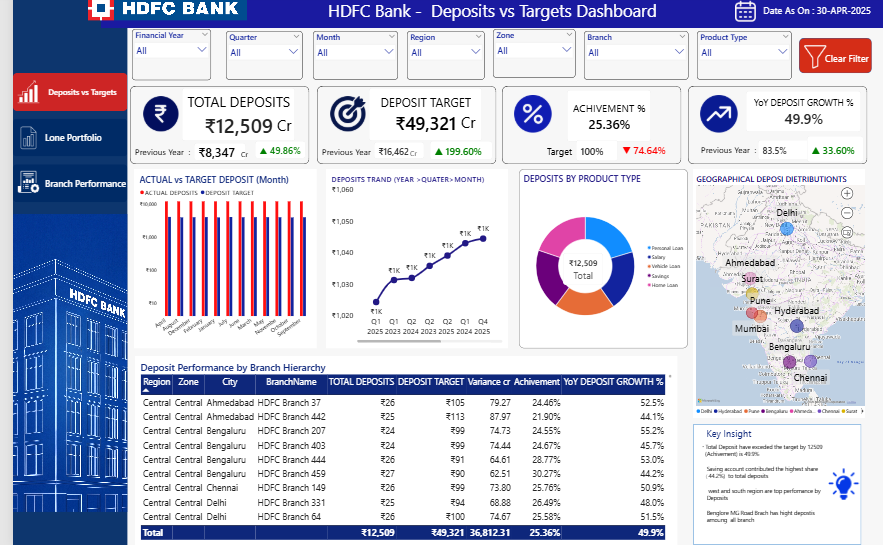

The dashboard page shown, as its layout file describes it:
{"tool":"powerbi","page":{"name":"Deposits vs Targets ","canvas":[2500,1580],"ordinal":0},"visuals":[{"type":"shape","box":[250.2,0,2249.9,94.8],"z":0,"group":"g1"},{"type":"slicer","fields":{"Values":["DimDate.Finanical Year"]},"box":[342.2,97.8,227,146.6],"z":0,"group":"g3"},{"type":"pageNavigator","box":[0,224.4,328.6,372.9],"z":0,"group":"g2"},{"type":"shape","box":[1940,260,515.1,224.4],"z":0,"group":"g9"},{"type":"shape","box":[872.1,260.5,515.1,224.4],"z":0,"group":"g5"},{"type":"shape","box":[1404.7,260.5,515.1,224.4],"z":0,"group":"g6"},{"type":"shape","box":[337.2,261.4,515.1,224.4],"z":0,"group":"g4"},{"type":"map","title":"GEOGRAPHICAL DEPOSI DIETRIBUTIONTS","fields":{"Category":["DimBranch.City"],"Series":["DimBranch.City"],"Size":["AllMeasure.TOTAL DEPOSITS"]},"box":[1952.9,499.3,493,714.2],"z":0},{"type":"donutChart","title":"DEPOSITS BY PRODUCT TYPE","fields":{"Category":["DimProduct.ProductName"],"Y":["AllMeasure.TOTAL DEPOSITS"]},"box":[1455,500,485,515],"z":0,"group":"g8"},{"type":"shape","box":[1952.9,1232.4,483.5,347.6],"z":0,"group":"g7"},{"type":"image","box":[2073.5,9.5,60,75.8],"z":1000,"group":"g1"},{"type":"slicer","fields":{"Values":["DimDate.Quarter"]},"box":[611.1,104.8,220,139.7],"z":1000,"group":"g3"},{"type":"image","box":[12.6,240.2,66.4,72.7],"z":1000,"group":"g2"},{"type":"image","box":[1969.4,284.7,119.8,107.8],"z":1000,"group":"g9"},{"type":"image","box":[901.5,285.2,119.8,107.8],"z":1000,"group":"g5"},{"type":"image","box":[1434.1,285.2,119.8,107.8],"z":1000,"group":"g6"},{"type":"image","box":[366.6,286.1,119.8,107.8],"z":1000,"group":"g4"},{"type":"cardVisual","fields":{"Data":["AllMeasure.TOTAL DEPOSITS"]},"box":[1582.5,742.5,115,92.5],"z":1000,"group":"g8"},{"type":"tableEx","title":"Deposit Performance by Branch Hierarchy","fields":{"Values":["DimBranch.Region","DimBranch.Zone","DimBranch.City","DimBranch.BranchName","AllMeasure.TOTAL DEPOSITS","AllMeasure.DEPOSIT TARGET","AllMeasure.DIFFERENCE","AllMeasure.Achivement","AllMeasure.YoY DEPOSIT GROWTH %"]},"box":[350.8,1036.5,1557.9,543.5],"z":1000},{"type":"textbox","box":[1970,1240,171.7,48.3],"z":1000,"group":"g7"},{"type":"textbox","box":[2146.2,25.3,322.3,50.6],"z":2000,"group":"g1"},{"type":"slicer","fields":{"Values":["DimDate.Month"]},"box":[862.5,104.8,244.4,139.7],"z":2000,"group":"g3"},{"type":"cardVisual","fields":{"Data":["Table.DEPOSIT TARGET"]},"box":[1020.6,266.2,324.8,152.2],"z":2000,"group":"g5"},{"type":"cardVisual","fields":{"Data":["Table.TOTAL DEPOSITS"]},"box":[485.7,267.1,324.8,152.2],"z":2000,"group":"g4"},{"type":"image","box":[12.6,372.9,66.4,72.7],"z":2000,"group":"g2"},{"type":"cardVisual","fields":{"Data":["AllMeasure.Previous Year Deposit GROWTH"]},"box":[2140,415,165,57.5],"z":2000,"group":"g9"},{"type":"textbox","box":[1534.9,430.3,107,41.9],"z":2000,"group":"g6"},{"type":"clusteredColumnChart","title":"ACTUAL  vs TARGET  DEPOSIT (Month)","fields":{"Category":["BranchDepositTargets.MonthName"],"Y":["AllMeasure.TOTAL DEPOSITS","AllMeasure.DEPOSIT TARGET"]},"box":[347.6,499.3,524.6,515.1],"z":2000},{"type":"image","box":[2340,1356,90,98],"z":2000,"group":"g7"},{"type":"cardVisual","fields":{"Data":["AllMeasure.Growth Arrow %"]},"box":[2282.5,402.5,162.5,75],"z":2500,"group":"g9"},{"type":"textbox","box":[1977.5,425,190,55],"z":2750,"group":"g9"},{"type":"textbox","box":[888.5,12.6,973.3,88.5],"z":3000,"group":"g1"},{"type":"slicer","fields":{"Values":["DimBranch.Region"]},"box":[1131.3,104.8,223.5,139.7],"z":3000,"group":"g3"},{"type":"cardVisual","fields":{"Data":["Table.ACHIVEMENT %"]},"box":[1590.7,272.1,241.9,148.8],"z":3000,"group":"g6"},{"type":"cardVisual","fields":{"Data":["AllMeasure.YoY Growth %"]},"box":[2107.5,275,330,117.5],"z":3000,"group":"g9"},{"type":"textbox","box":[1285.6,335.5,66.4,66.4],"z":3000,"group":"g5"},{"type":"textbox","box":[759.8,345.5,66.2,66.6],"z":3000,"group":"g4"},{"type":"image","box":[12.6,499.3,66.4,72.7],"z":3000,"group":"g2"},{"type":"lineChart","title":"DEPOSITS TRAND (YEAR >QUATER>MONTH)","fields":{"Category":["DimDate.Year","DimDate.Quarter","DimDate.Month"],"Y":["AllMeasure.TOTAL DEPOSITS"]},"box":[900,500,522.5,515],"z":3000},{"type":"textbox","box":[1970,1288.3,370,271.7],"z":3000,"group":"g7"},{"type":"shape","title":"Left Pane ","box":[0,0,328.6,1580],"z":4000},{"type":"image","box":[211.3,3.5,460.9,69.8],"z":4000,"group":"g1"},{"type":"slicer","fields":{"Values":["DimBranch.Zone"]},"box":[1379.2,97.8,237.4,139.7],"z":4000,"group":"g3"},{"type":"cardVisual","fields":{"Data":["Table.Achivemet Difference %"]},"box":[1616.3,416.3,120.9,60.5],"z":4000,"group":"g6"},{"type":"cardVisual","fields":{"Data":["Table.Previous Year"]},"box":[520.1,425.6,148.2,50.7],"z":4000,"group":"g4"},{"type":"textbox","box":[887.9,432.1,186.1,34.9],"z":4000,"group":"g5"},{"type":"image","box":[0,628.9,328.6,856.4],"z":4000,"group":"g2"},{"type":"group","id":"g1","title":"Top Pane","box":[211.3,0,2288.8,101.1],"z":5000},{"type":"slicer","fields":{"Values":["DimBranch.BranchName"]},"box":[1641.1,104.8,300.3,139.7],"z":5000,"group":"g3"},{"type":"cardVisual","fields":{"Data":["AllMeasure.Achivement Arrow"]},"box":[1737.3,414,169.8,60.5],"z":5000,"group":"g6"},{"type":"cardVisual","fields":{"Data":["Table.Traget Deposits Previous Year"]},"box":[1034.9,421,144.2,48.8],"z":5000,"group":"g5"},{"type":"textbox","box":[353,433,186.1,34.9],"z":5000,"group":"g4"},{"type":"shape","box":[2259.1,122.2,209.5,101.3],"z":6000,"group":"g3"},{"type":"textbox","box":[1139.5,437.2,44.2,41.9],"z":6000,"group":"g5"},{"type":"textbox","box":[655.7,442.2,50.5,28.5],"z":6000,"group":"g4"},{"type":"slicer","fields":{"Values":["DimProduct.ProductName"]},"box":[1965.8,104.8,272.3,139.7],"z":7000,"group":"g3"},{"type":"group","id":"g2","title":"Left Side ","box":[0,224.4,328.6,1260.8],"z":7000},{"type":"cardVisual","fields":{"Data":["Table.Deposits Growth Arrow"]},"box":[696.7,418.2,145.4,50.6],"z":7000,"group":"g4"},{"type":"cardVisual","fields":{"Data":["Table.Traget Deposits Growth Arrow"]},"box":[1195.4,418.6,179.1,53.5],"z":7000,"group":"g5"},{"type":"group","id":"g3","title":"Top Slicer","box":[342.2,97.8,2126.4,146.6],"z":8000},{"type":"image","box":[2273.1,132.7,66.3,90.8],"z":8000,"group":"g3"},{"type":"textbox","box":[2325.4,164.1,143.2,73.3],"z":9000,"group":"g3"},{"type":"group","id":"g4","title":"Total Deposits ","box":[337.2,261.4,515.1,224.4],"z":9000},{"type":"group","id":"g5","title":"Target Deposit","box":[872.1,260.5,515.1,224.4],"z":10000},{"type":"group","id":"g6","title":"Achivement%","box":[1404.7,260.5,515.1,224.4],"z":11000},{"type":"group","id":"g7","title":"Key Insight","box":[1952.9,1232.4,483.5,347.6],"z":12000},{"type":"group","id":"g8","title":"DEPOSIT BY PRODUCT","box":[1455,500,485,515],"z":13000},{"type":"group","id":"g9","title":"YOY DEPOSIT GROWTH","box":[1940,260,515.1,224.4],"z":14000}]}

Visuals, with their boxes in screenshot pixels (x1, y1, x2, y2), scaled from the page's 2500x1580 canvas onto the 883x545 screenshot:
shape: 88:0:882:33
slicer - DimDate.Finanical Year: 121:34:201:84
pageNavigator: 0:77:116:206
shape: 685:90:867:167
shape: 308:90:490:167
shape: 496:90:678:167
shape: 119:90:301:168
"GEOGRAPHICAL DEPOSI DIETRIBUTIONTS" map: 690:172:864:419
"DEPOSITS BY PRODUCT TYPE" donutChart: 514:172:685:350
shape: 690:425:861:544
image: 732:3:754:29
slicer - DimDate.Quarter: 216:36:294:84
image: 4:83:28:108
image: 696:98:738:135
image: 318:98:361:136
image: 507:98:549:136
image: 129:99:172:136
cardVisual - AllMeasure.TOTAL DEPOSITS: 559:256:600:288
"Deposit Performance by Branch Hierarchy" tableEx: 124:358:674:544
textbox: 696:428:756:444
textbox: 758:9:872:26
slicer - DimDate.Month: 305:36:391:84
cardVisual - Table.DEPOSIT TARGET: 360:92:475:144
cardVisual - Table.TOTAL DEPOSITS: 172:92:286:145
image: 4:129:28:154
cardVisual - AllMeasure.Previous Year Deposit GROWTH: 756:143:814:163
textbox: 542:148:580:163
"ACTUAL  vs TARGET  DEPOSIT (Month)" clusteredColumnChart: 123:172:308:350
image: 826:468:858:502
cardVisual - AllMeasure.Growth Arrow %: 806:139:864:165
textbox: 698:147:766:166
textbox: 314:4:658:35
slicer - DimBranch.Region: 400:36:479:84
cardVisual - Table.ACHIVEMENT %: 562:94:647:145
cardVisual - AllMeasure.YoY Growth %: 744:95:861:135
textbox: 454:116:478:139
textbox: 268:119:292:142
image: 4:172:28:197
"DEPOSITS TRAND (YEAR >QUATER>MONTH)" lineChart: 318:172:502:350
textbox: 696:444:826:538
"Left Pane " shape: 0:0:116:544
image: 75:1:237:25
slicer - DimBranch.Zone: 487:34:571:82
cardVisual - Table.Achivemet Difference %: 571:144:614:164
cardVisual - Table.Previous Year: 184:147:236:164
textbox: 314:149:379:161
image: 0:217:116:512
"Top Pane" group: 75:0:882:35
slicer - DimBranch.BranchName: 580:36:686:84
cardVisual - AllMeasure.Achivement Arrow: 614:143:674:164
cardVisual - Table.Traget Deposits Previous Year: 366:145:416:162
textbox: 125:149:190:161
shape: 798:42:872:77
textbox: 402:151:418:165
textbox: 232:153:249:162
slicer - DimProduct.ProductName: 694:36:790:84
"Left Side " group: 0:77:116:512
cardVisual - Table.Deposits Growth Arrow: 246:144:297:162
cardVisual - Table.Traget Deposits Growth Arrow: 422:144:485:163
"Top Slicer" group: 121:34:872:84
image: 803:46:826:77
textbox: 821:57:872:82
"Total Deposits " group: 119:90:301:168
"Target Deposit" group: 308:90:490:167
"Achivement%" group: 496:90:678:167
"Key Insight" group: 690:425:861:544
"DEPOSIT BY PRODUCT" group: 514:172:685:350
"YOY DEPOSIT GROWTH" group: 685:90:867:167
